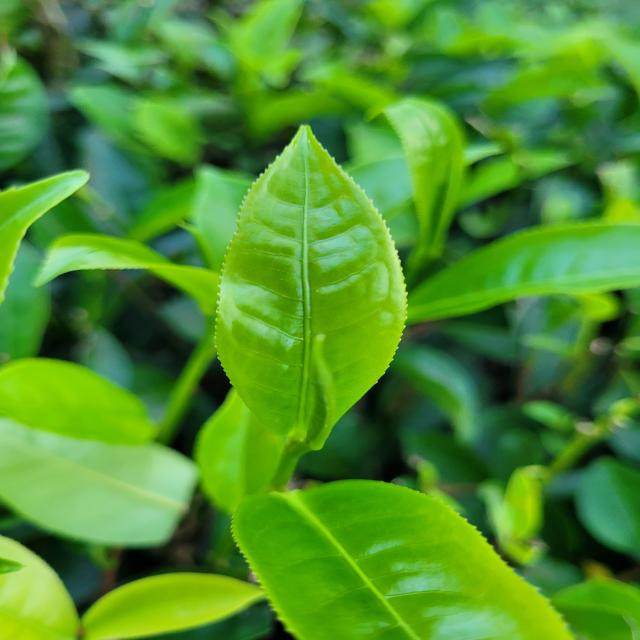Catagory A(1-2 days): (196, 120, 415, 458)
